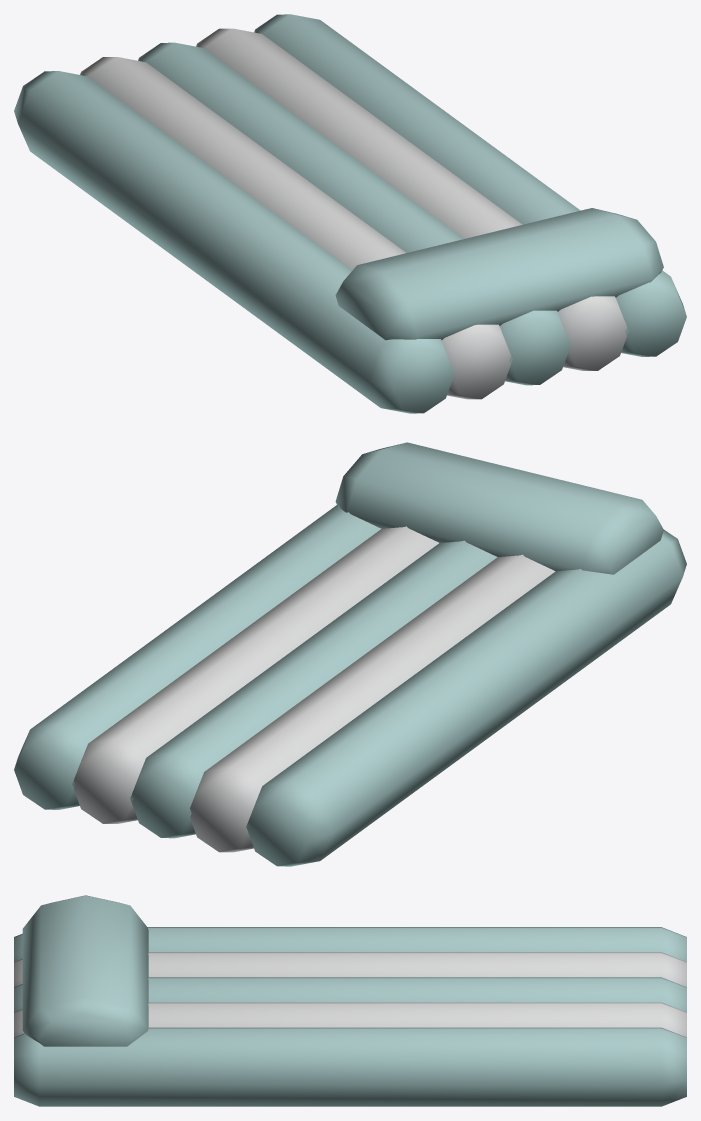
The model's file is pool-bed-floating.glb.
3 views of the same model, one above another, from view 1: azimuth 30°, elevation 25°; view 2: azimuth 150°, elevation 25°; view 3: azimuth 270°, elevation 25° (orthographic). The views are drawn at different scales.
Parts seen in each view (by area): view 1: pool-bed-floating; view 2: pool-bed-floating; view 3: pool-bed-floating.
Part boxes in pixels (box(x1,y1,x2,y2)): pool-bed-floating: box(14, 14, 686, 413); pool-bed-floating: box(14, 442, 686, 866); pool-bed-floating: box(14, 895, 686, 1106).
Bounding box in the file's own units: 0.6355 × 0.2361 × 1.33.
